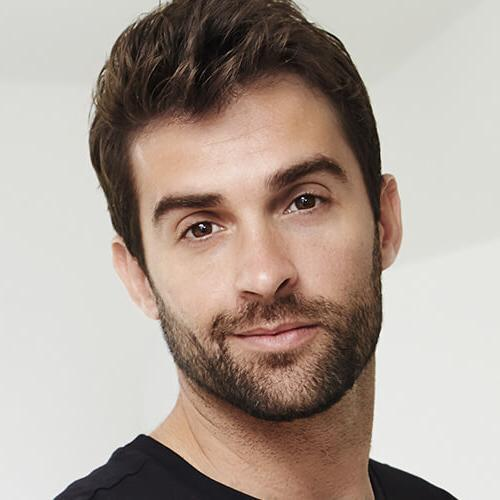Sober: (149, 142, 370, 368)
